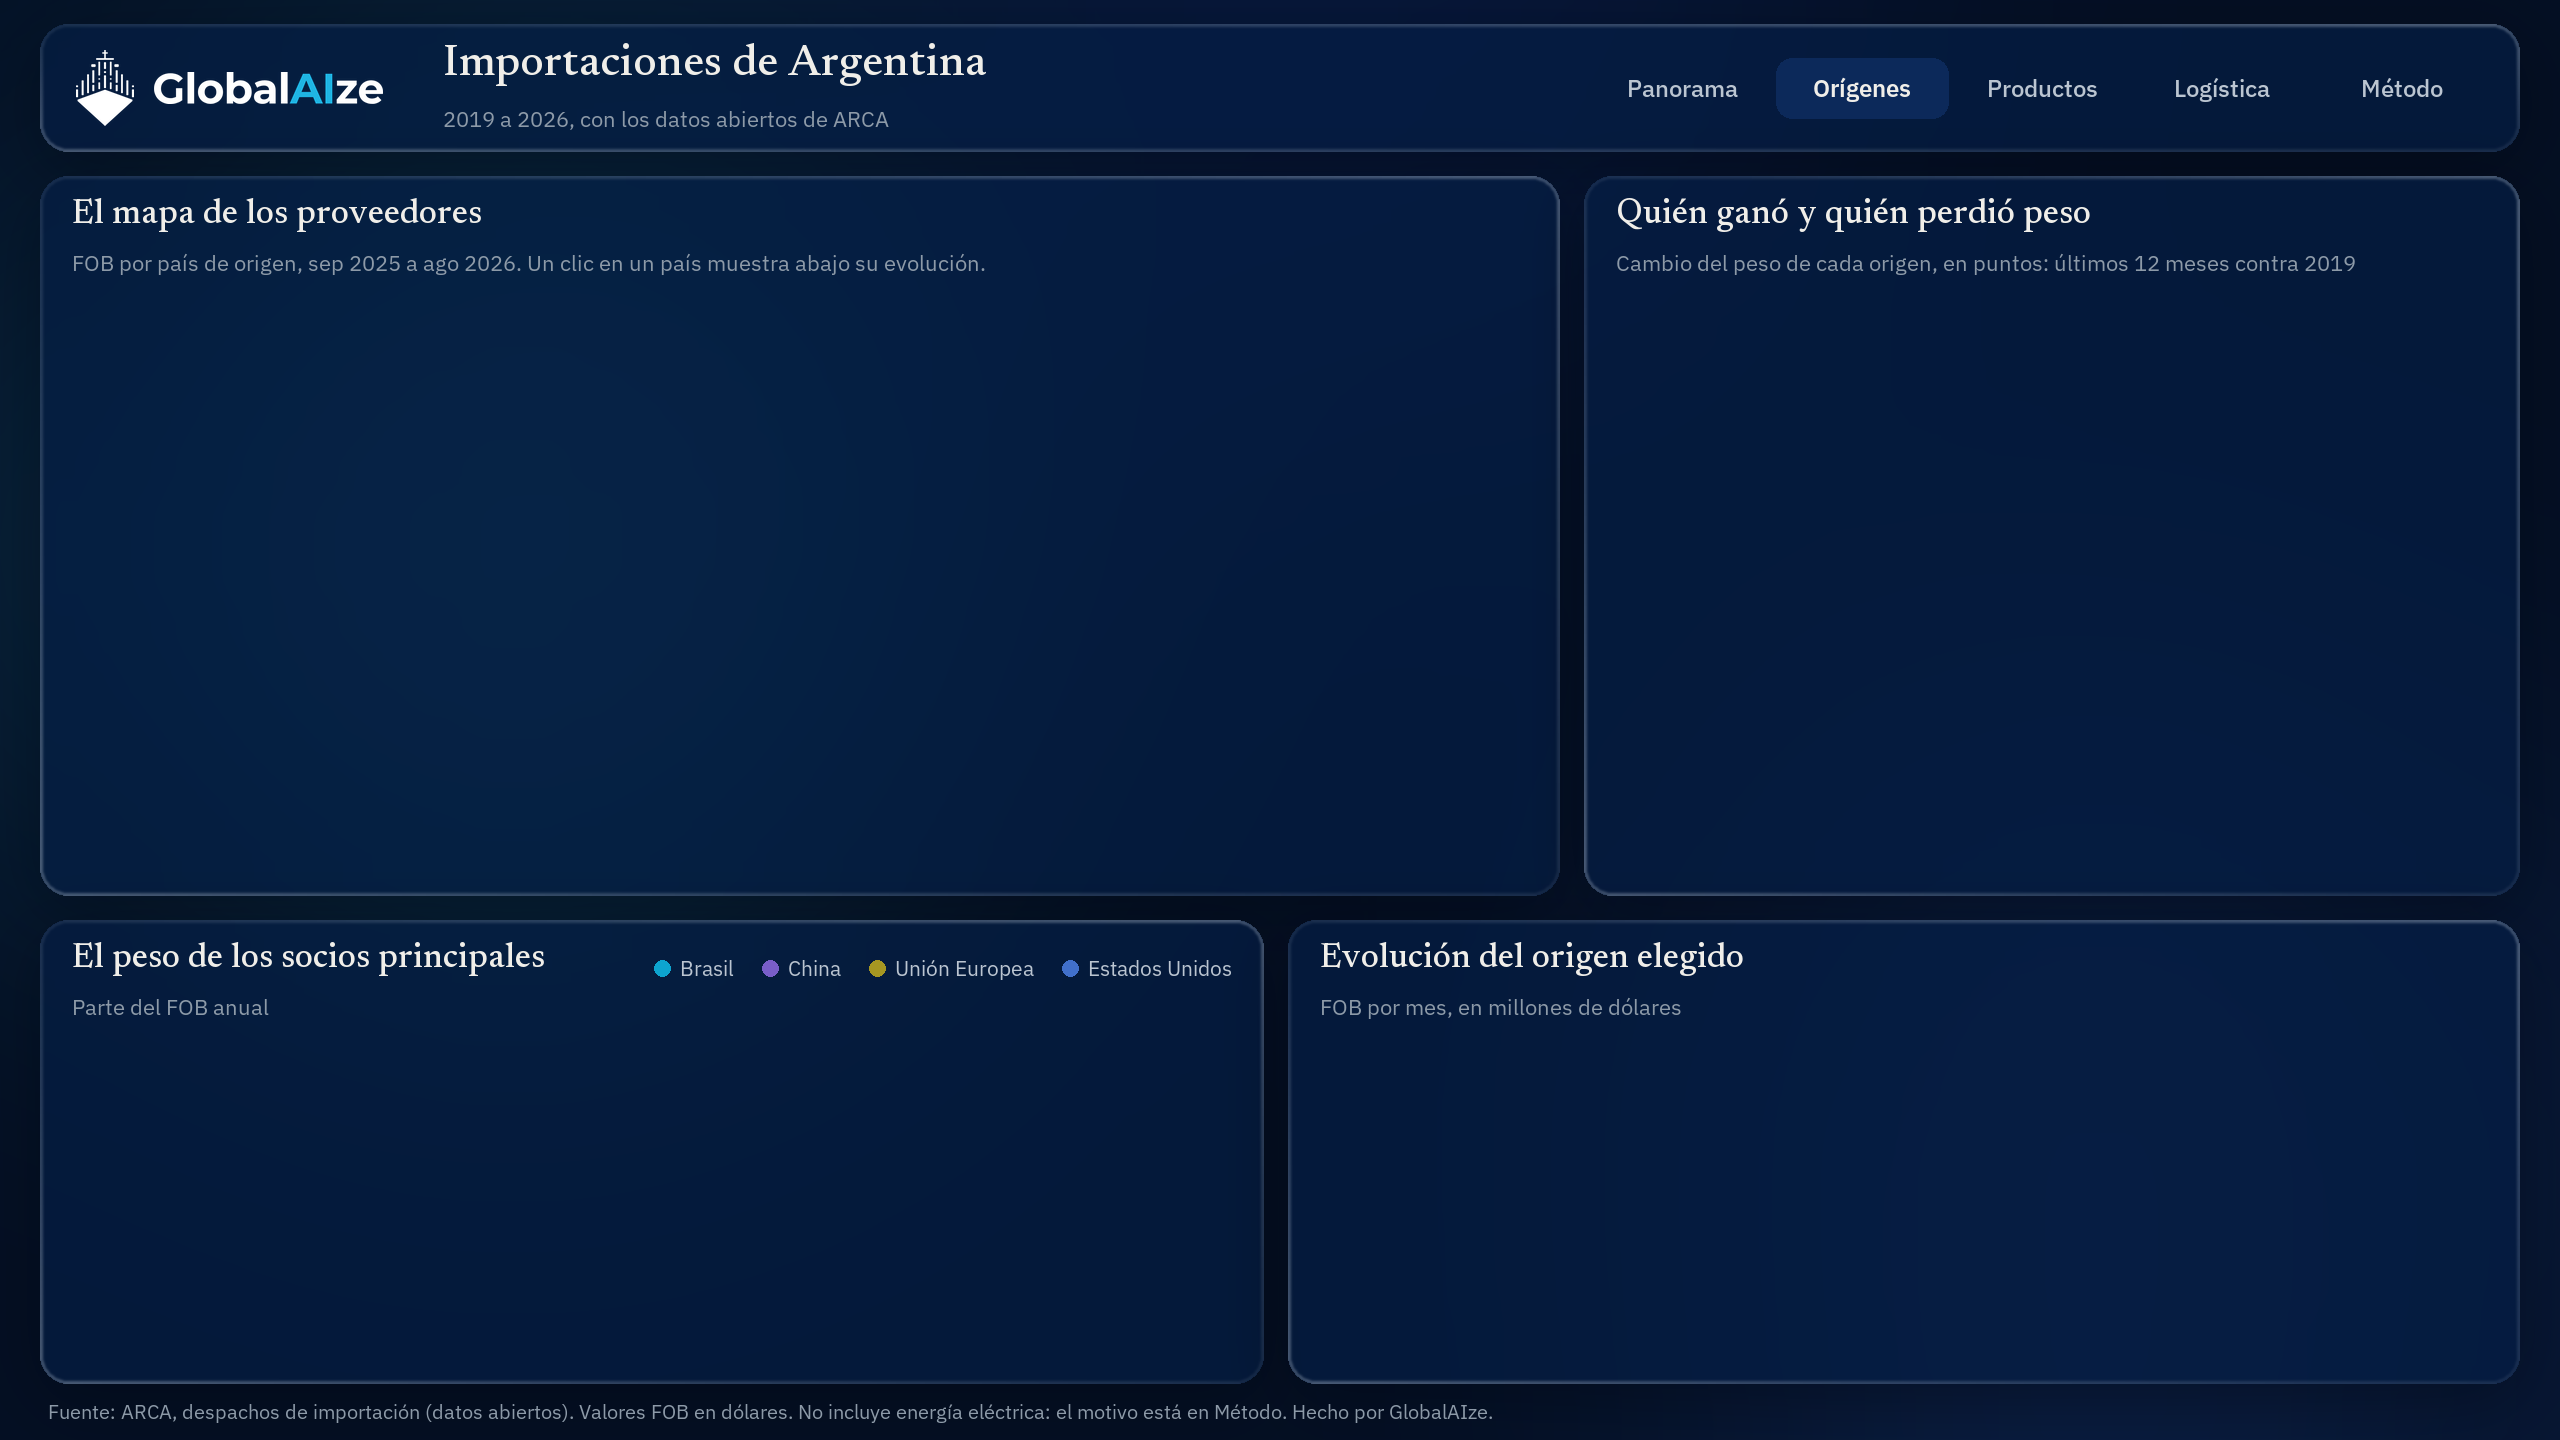

Layout of this report page (visuals, bound fields, positions):
{"tool":"tableau","page":{"name":"Orígenes","canvas":[1280,720],"ordinal":1},"visuals":[{"type":"image","param":"fondos/origenes.png","box":[0,0,1280,720]},{"type":"dashboard-object","box":[798,29,86,30]},{"type":"dashboard-object","box":[978,29,86,30]},{"type":"dashboard-object","box":[1068,29,86,30]},{"type":"dashboard-object","box":[1158,29,86,30]},{"type":"worksheet","title":"Mapa de orígenes","mark":"Multipolygon","box":[32,144,736,294]},{"type":"worksheet","title":"Ganadores y perdedores","mark":"Bar","rows":["País de origen"],"cols":["c_cambio"],"box":[804,144,444,294]},{"type":"worksheet","title":"Origen elegido","mark":"Text","box":[1024,469,220,26]},{"type":"worksheet","title":"Peso de los grupos","mark":"Line","rows":["c_peso_anio"],"cols":["Fecha"],"box":[32,516,588,166]},{"type":"worksheet","title":"Evolución del origen","mark":"Area","rows":["c_fob_m"],"cols":["Fecha"],"box":[656,516,592,166]}]}

Visuals, with their boxes in screenshot pixels (x1, y1, x2, y2), scaled from the page's 1280x720 canvas onto the 2560x1440 screenshot:
image: (0, 0, 2559, 1439)
dashboard-object: (1596, 58, 1768, 118)
dashboard-object: (1956, 58, 2128, 118)
dashboard-object: (2136, 58, 2308, 118)
dashboard-object: (2316, 58, 2488, 118)
"Mapa de orígenes" worksheet (Multipolygon marks): (64, 288, 1536, 876)
"Ganadores y perdedores" worksheet (Bar marks): (1608, 288, 2496, 876)
"Origen elegido" worksheet (Text marks): (2048, 938, 2488, 990)
"Peso de los grupos" worksheet (Line marks): (64, 1032, 1240, 1364)
"Evolución del origen" worksheet (Area marks): (1312, 1032, 2496, 1364)
